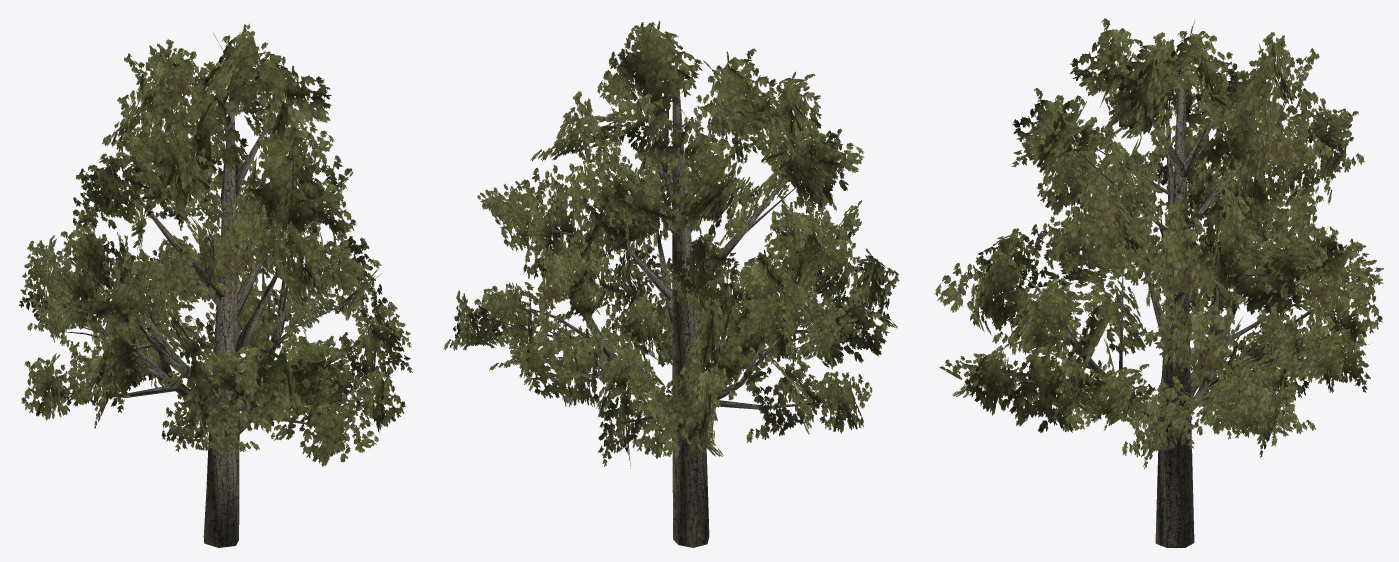
File: Vegetation_Tree02.glb
3 views of the same model, side by side, from view 1: azimuth 30°, elevation 25°; view 2: azimuth 150°, elevation 25°; view 3: azimuth 270°, elevation 25° (orthographic). The views are drawn at different scales.
Visible parts, largest first — view 1: zw_tree02_0; view 2: zw_tree02_0; view 3: zw_tree02_0.
Part boxes in pixels (bbox=[...]): zw_tree02_0: bbox=[19, 23, 412, 547]; zw_tree02_0: bbox=[443, 21, 899, 547]; zw_tree02_0: bbox=[934, 18, 1383, 547].
Size of the model in its own units: 19.52 by 24.16 by 18.6.
2 materials, 2 textured.
